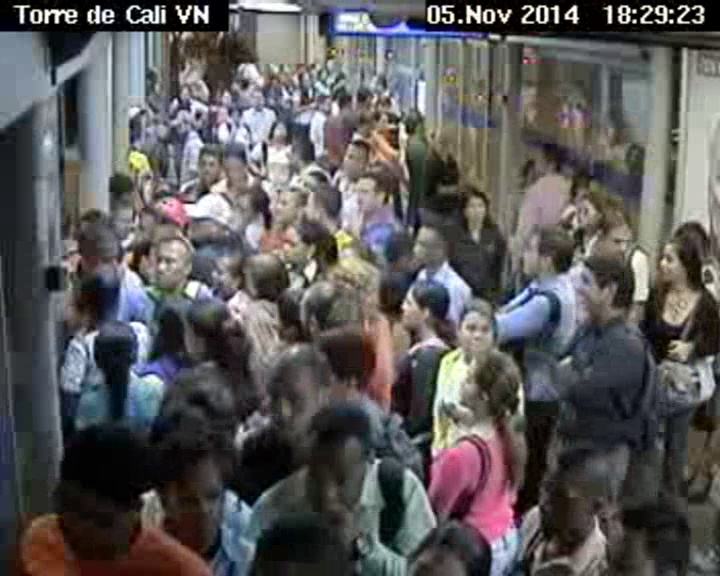person: (47, 412, 154, 559), (520, 436, 630, 552), (146, 426, 234, 551), (290, 404, 381, 517), (236, 507, 364, 576), (262, 341, 343, 447), (594, 498, 696, 576), (287, 267, 372, 350), (395, 512, 501, 576), (152, 374, 246, 441), (453, 349, 526, 427), (180, 291, 247, 369), (575, 250, 638, 328), (82, 317, 140, 389), (650, 230, 710, 297), (519, 216, 576, 283), (396, 274, 452, 342), (67, 261, 124, 324), (236, 250, 296, 306), (148, 232, 202, 293), (280, 214, 336, 272), (588, 203, 639, 264), (451, 295, 505, 351), (74, 217, 126, 270), (410, 217, 458, 272), (352, 170, 397, 219), (303, 184, 352, 229), (210, 245, 251, 296), (231, 183, 274, 227), (269, 185, 310, 224), (458, 180, 491, 228), (217, 140, 253, 183), (337, 132, 372, 175), (196, 139, 226, 186), (528, 144, 566, 176), (287, 138, 317, 171), (267, 115, 293, 142), (210, 119, 232, 144), (246, 88, 268, 112), (314, 96, 336, 119), (235, 122, 255, 143), (216, 87, 237, 107), (371, 112, 391, 130), (356, 88, 372, 110)
